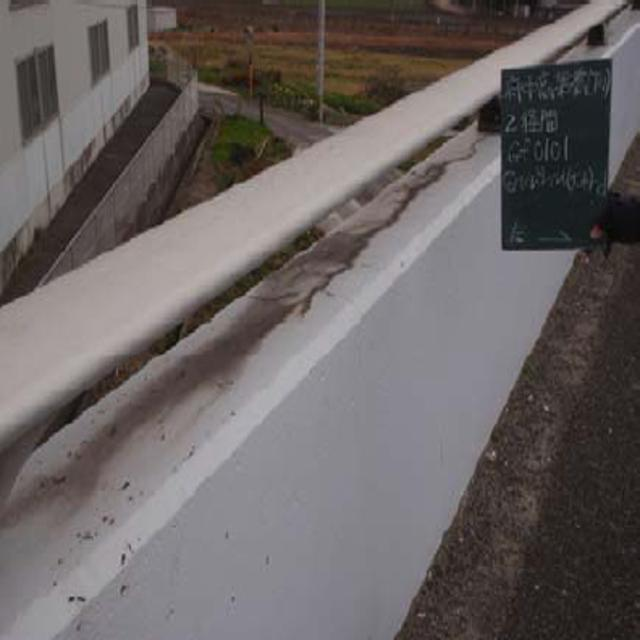crack: (286, 126, 511, 330)
